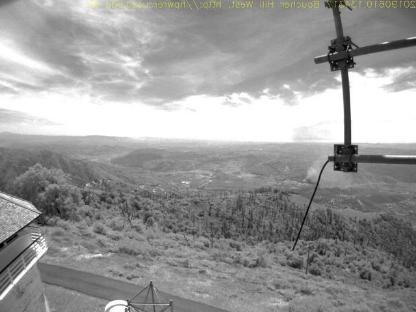smoke: (291, 110, 339, 184)
